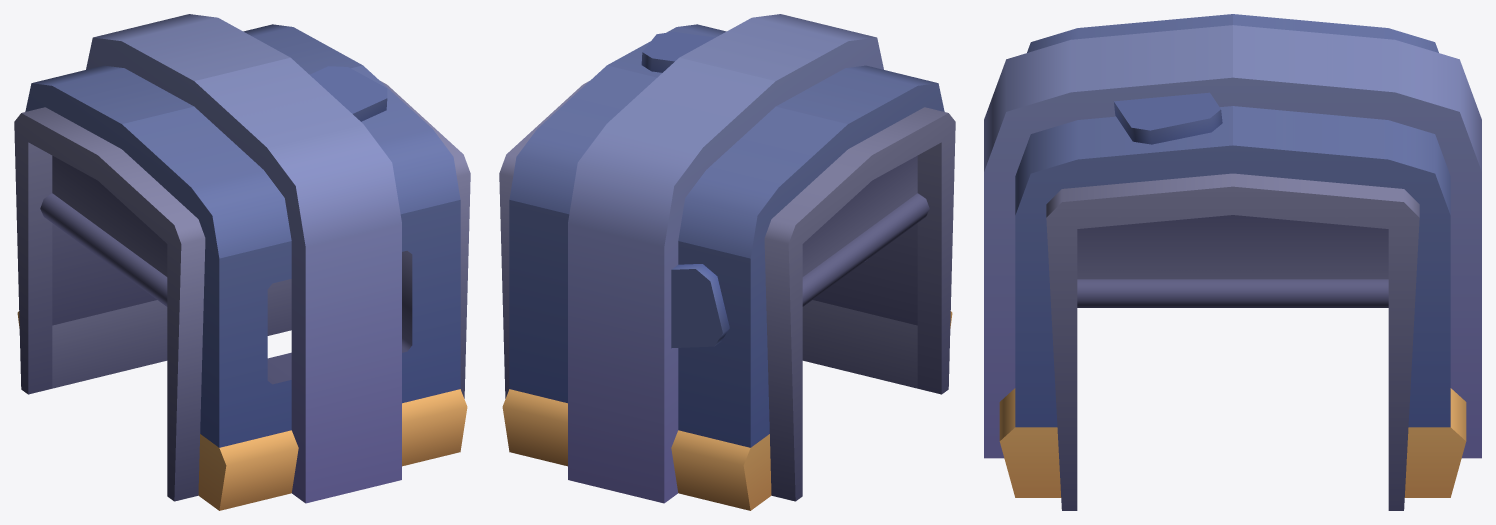
Rendered from kenney-factory-machine-fortified.glb.
3 renders of one model, left to right at view 1: azimuth 30°, elevation 25°; view 2: azimuth 150°, elevation 25°; view 3: azimuth 270°, elevation 25°, orthographic. The views are drawn at different scales.
Visible parts, largest first — view 1: machine-fortified; view 2: machine-fortified; view 3: machine-fortified.
Boxes of the visible parts, bbox=[...] form: machine-fortified: bbox=[14, 14, 470, 510]; machine-fortified: bbox=[499, 14, 955, 510]; machine-fortified: bbox=[984, 14, 1481, 510].
Size of the model in its own units: 1.8 by 2.03 by 2.4.
Materials: 1 (1 with a texture image).
